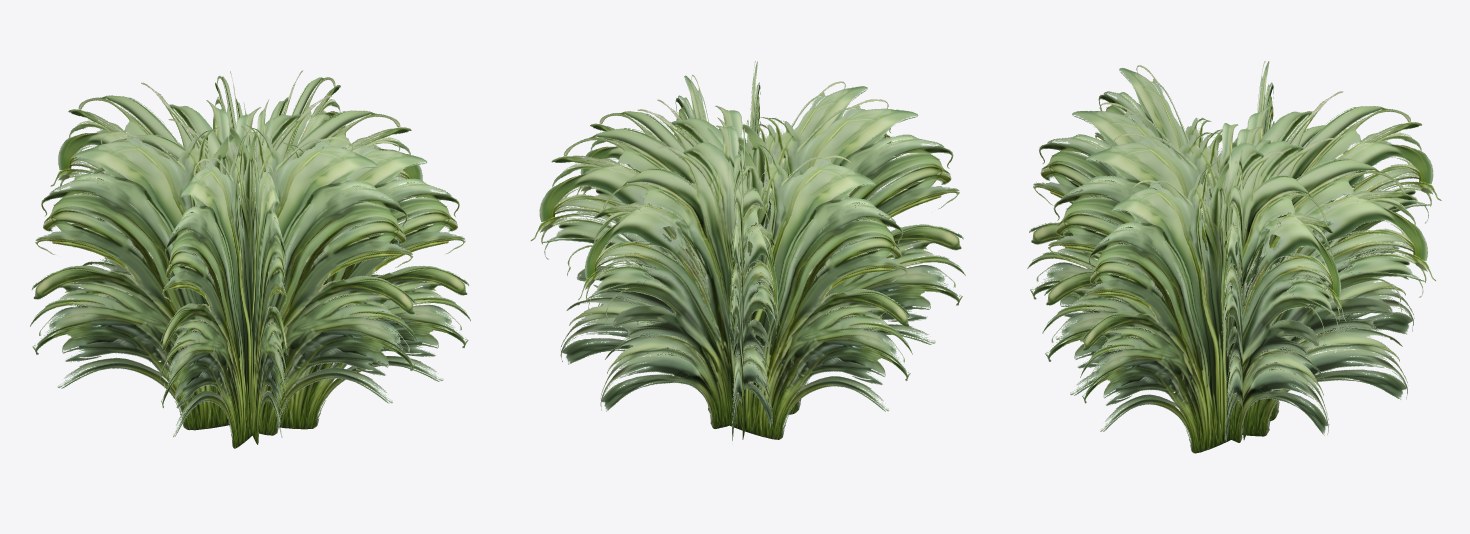
Rendered from grass_1.glb.
The picture shows the model from 3 angles, left to right: view 1: azimuth 30°, elevation 25°; view 2: azimuth 150°, elevation 25°; view 3: azimuth 270°, elevation 25°; orthographic projection. The views are drawn at different scales.
Parts seen in each view (by area): view 1: Leaves; view 2: Leaves; view 3: Leaves.
Boxes of the visible parts, x1,y1,x2,y2 form: Leaves: (30, 70, 470, 448); Leaves: (530, 61, 965, 441); Leaves: (1027, 61, 1441, 453).
Bounding box in the file's own units: 0.5948 × 0.4645 × 0.5704.
Materials: 1 (1 with a texture image).
